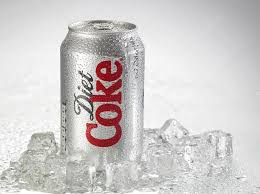can: (58, 16, 146, 165)
